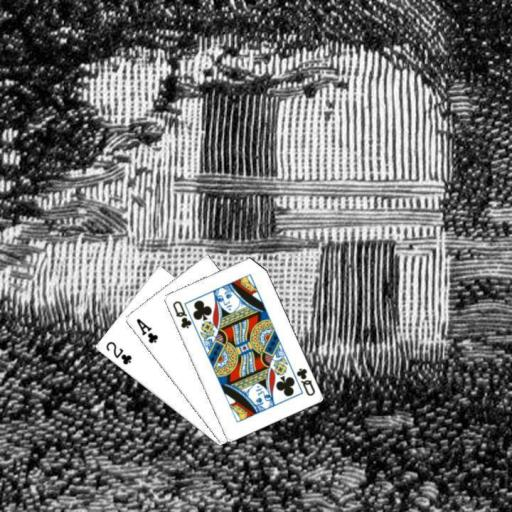card-corner: (102, 338, 133, 366), (169, 297, 193, 330), (133, 315, 159, 345), (293, 365, 316, 397)
